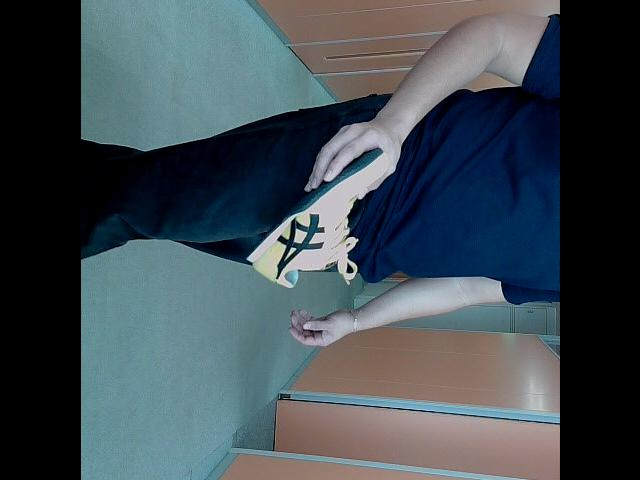Shoes: (249, 149, 388, 287)
